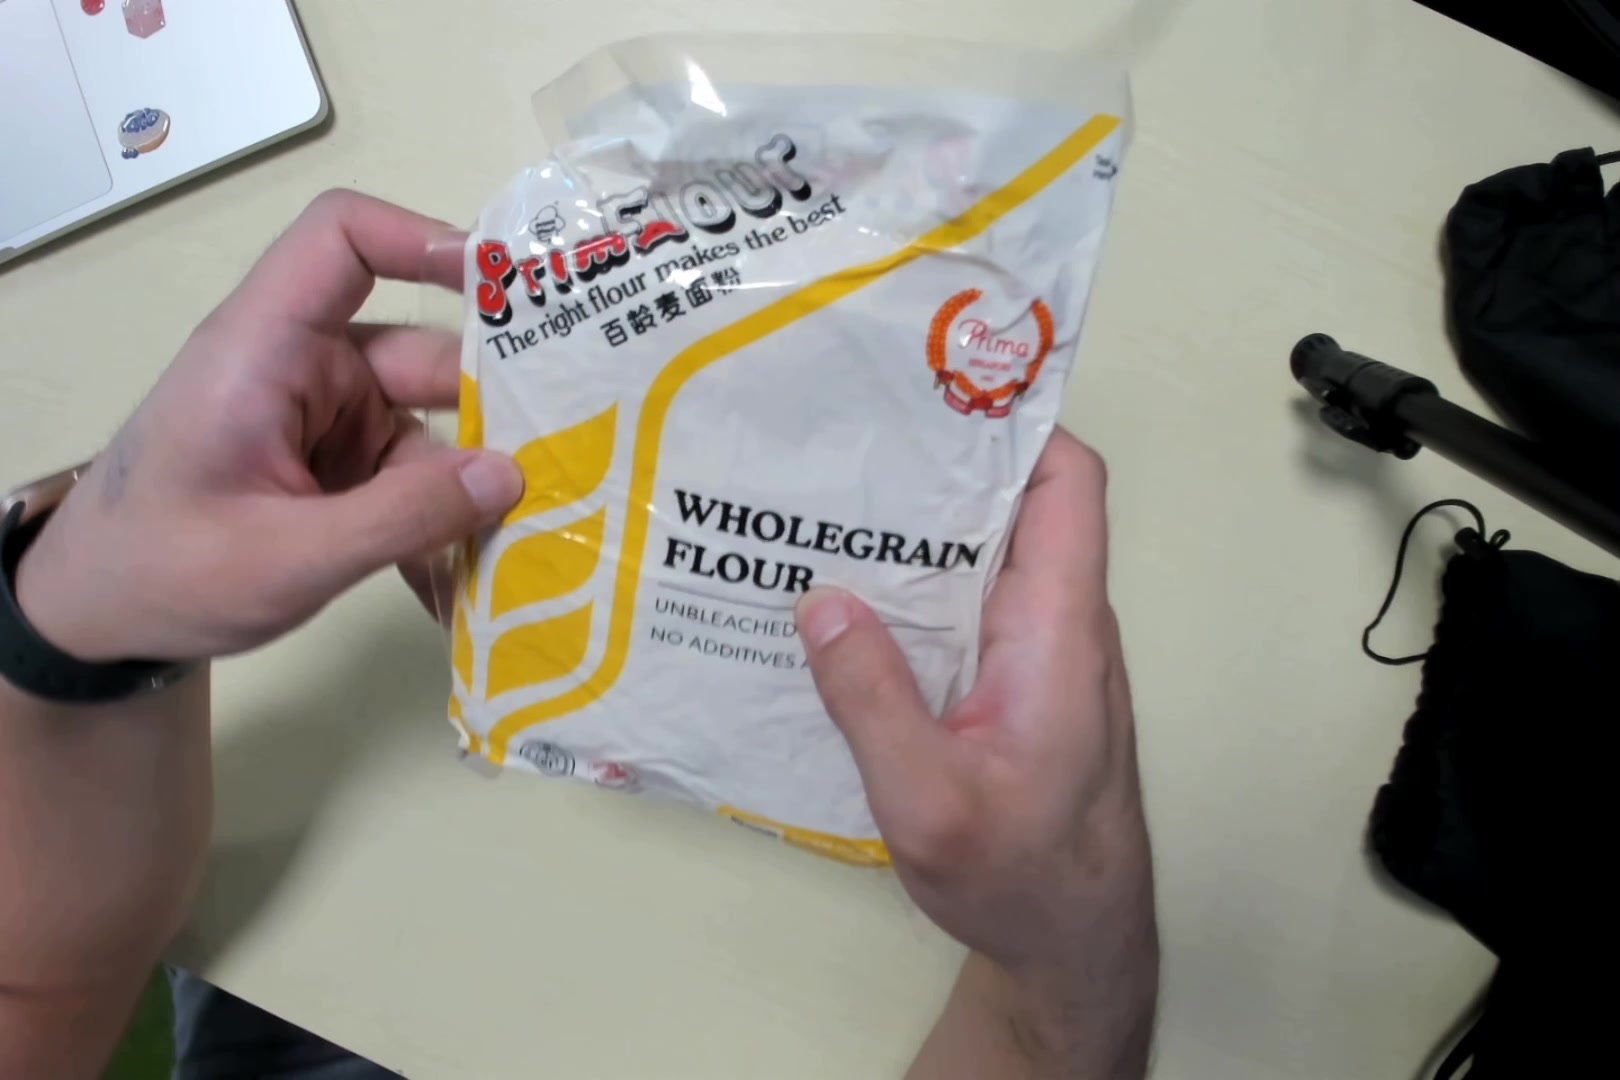OtherBakingNeeds_400-499g_Halal_NonHealthy: (448, 45, 1125, 865)
